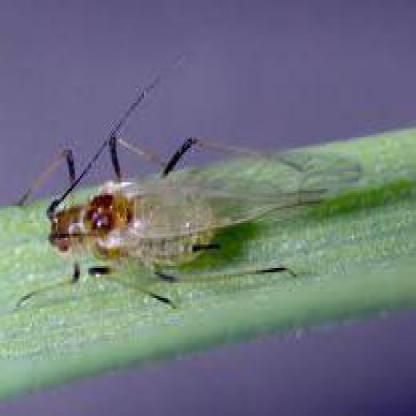schizaphis graminum: (47, 137, 358, 281)
